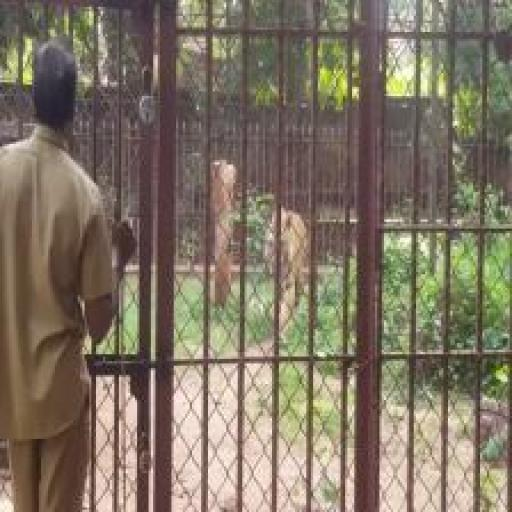Tiger: (185, 110, 317, 338)
